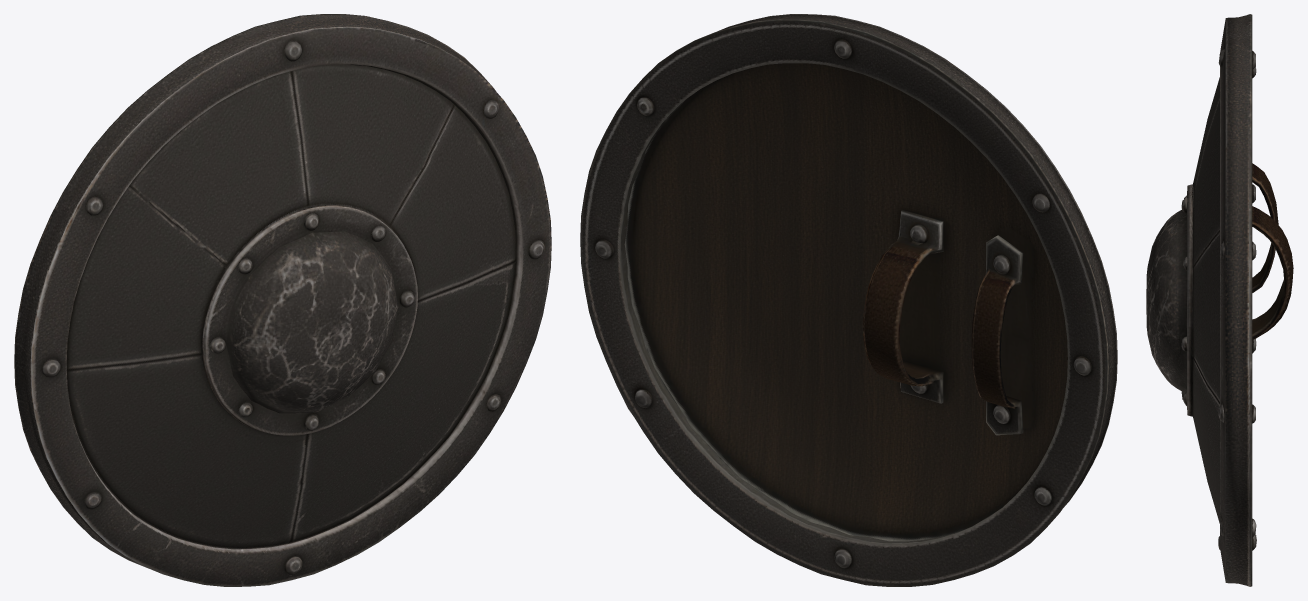
Rendered from round shield 3d model (1).glb.
3 views of the same model, side by side, from view 1: azimuth 30°, elevation 25°; view 2: azimuth 150°, elevation 25°; view 3: azimuth 270°, elevation 25° (orthographic). The views are drawn at different scales.
Parts seen in each view (by area): view 1: cb364200_e654_402f_ae37_fb4504c15de7; view 2: cb364200_e654_402f_ae37_fb4504c15de7; view 3: cb364200_e654_402f_ae37_fb4504c15de7.
Boxes of the visible parts, x1,y1,x2,y2 form: cb364200_e654_402f_ae37_fb4504c15de7: (14, 14, 551, 586); cb364200_e654_402f_ae37_fb4504c15de7: (580, 14, 1117, 586); cb364200_e654_402f_ae37_fb4504c15de7: (1146, 14, 1293, 586).
Bounding box in the file's own units: 0.9985 × 0.9995 × 0.2554.
1 material, 1 textured.
